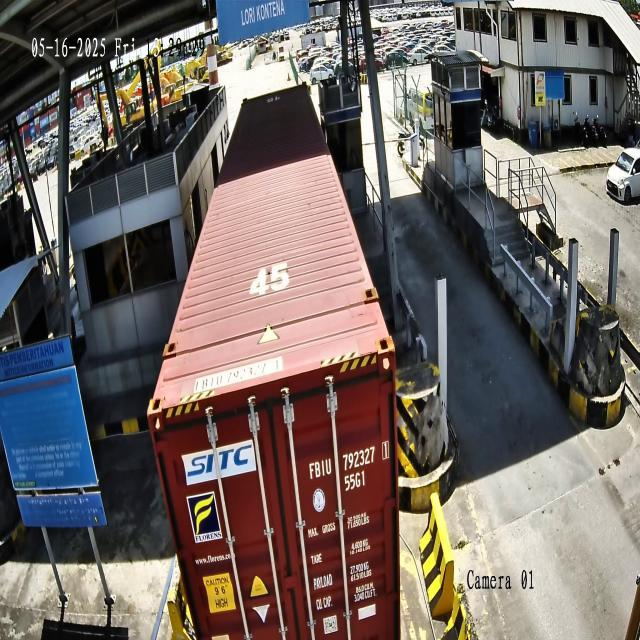ISO: (343, 468, 368, 492)
container_number: (308, 437, 394, 487)
